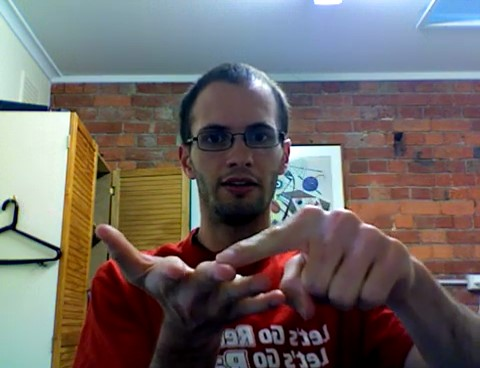I: (78, 203, 414, 332)
